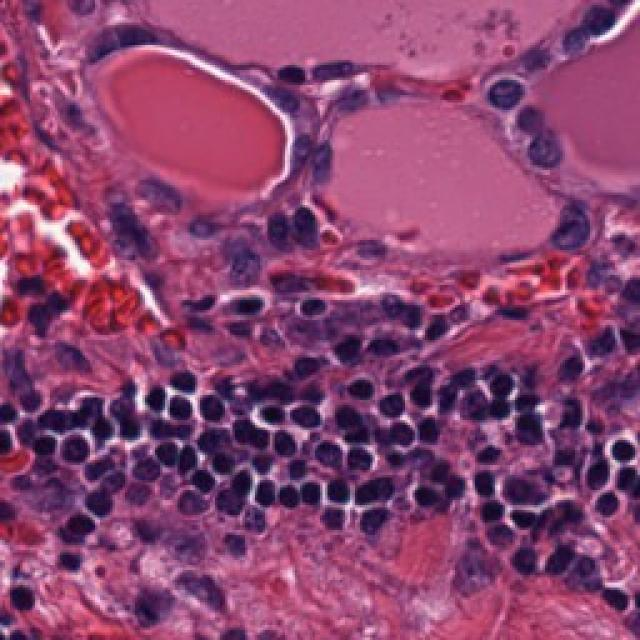normal: (549, 193, 623, 264), (114, 153, 196, 214), (510, 118, 587, 182), (266, 187, 343, 247), (466, 66, 534, 123), (181, 202, 233, 271), (264, 58, 322, 119), (274, 114, 325, 173), (553, 12, 590, 62)
